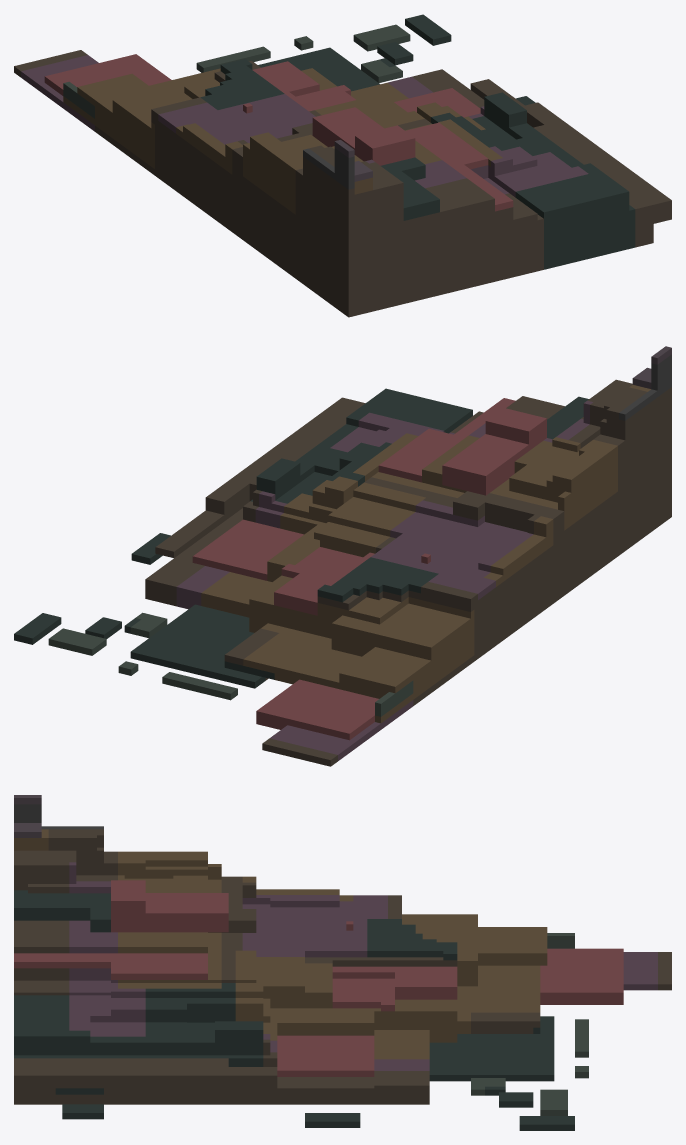
Rendered from Rubble Siding-1.obj.
3 renders of one model, top to bottom at view 1: azimuth 30°, elevation 25°; view 2: azimuth 150°, elevation 25°; view 3: azimuth 270°, elevation 25°, orthographic. The views are drawn at different scales.
Visible parts, largest first — view 1: Rubble Siding-1; view 2: Rubble Siding-1; view 3: Rubble Siding-1.
Boxes of the visible parts, <box> form: Rubble Siding-1: <box>14,14,671,317</box>; Rubble Siding-1: <box>14,346,671,766</box>; Rubble Siding-1: <box>14,795,671,1130</box>.
Bounding box in the file's own units: 59 × 26 × 95.
Materials: 1 (1 with a texture image).
